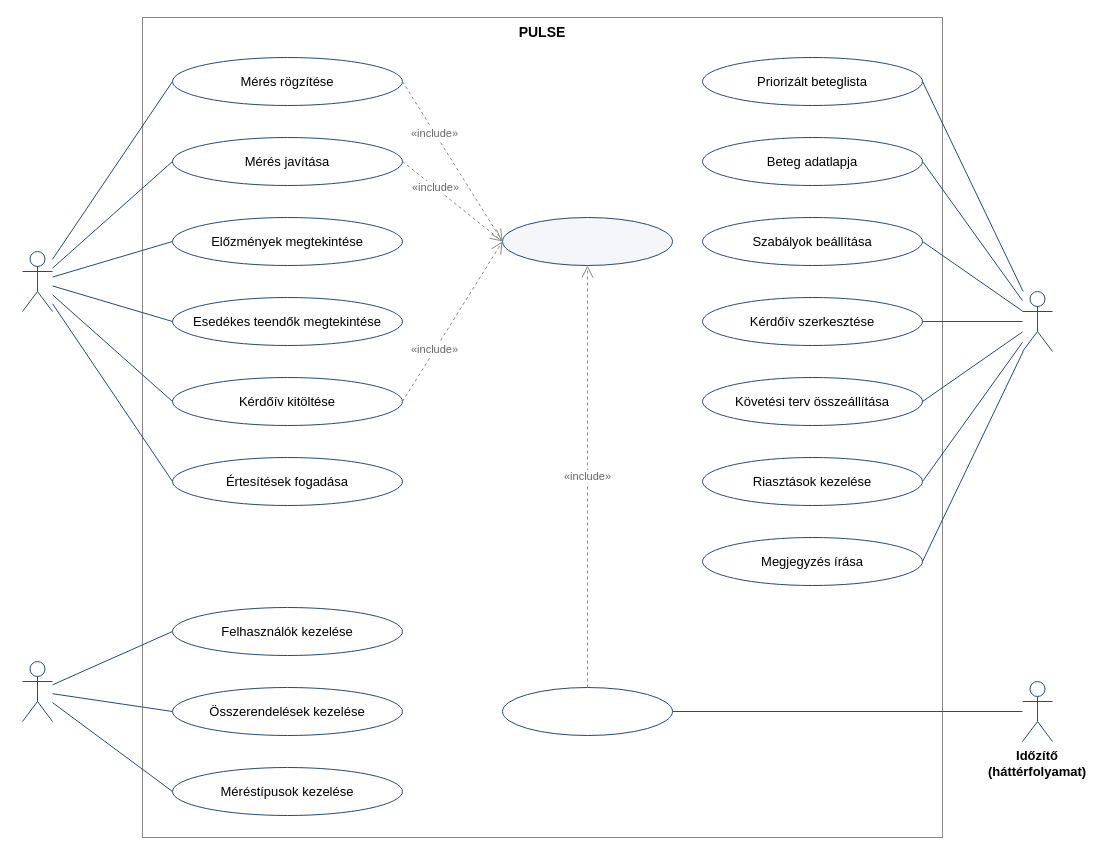
The diagram is 1104 pixels wide and 855 high, and some of its shapes have lost their labels. The shapes that lost their labels are listed below. From the top down, each one's centre as x and y in pixels, then its label:
At (x=587, y=241): "Szabálykiértékelés".
At (x=37, y=281): "Beteg".
At (x=1037, y=321): "Orvos".
At (x=37, y=691): "Admin".
At (x=587, y=711): "Határidők ellenőrzése".
